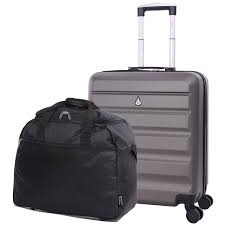suitcase: (86, 4, 213, 224)
